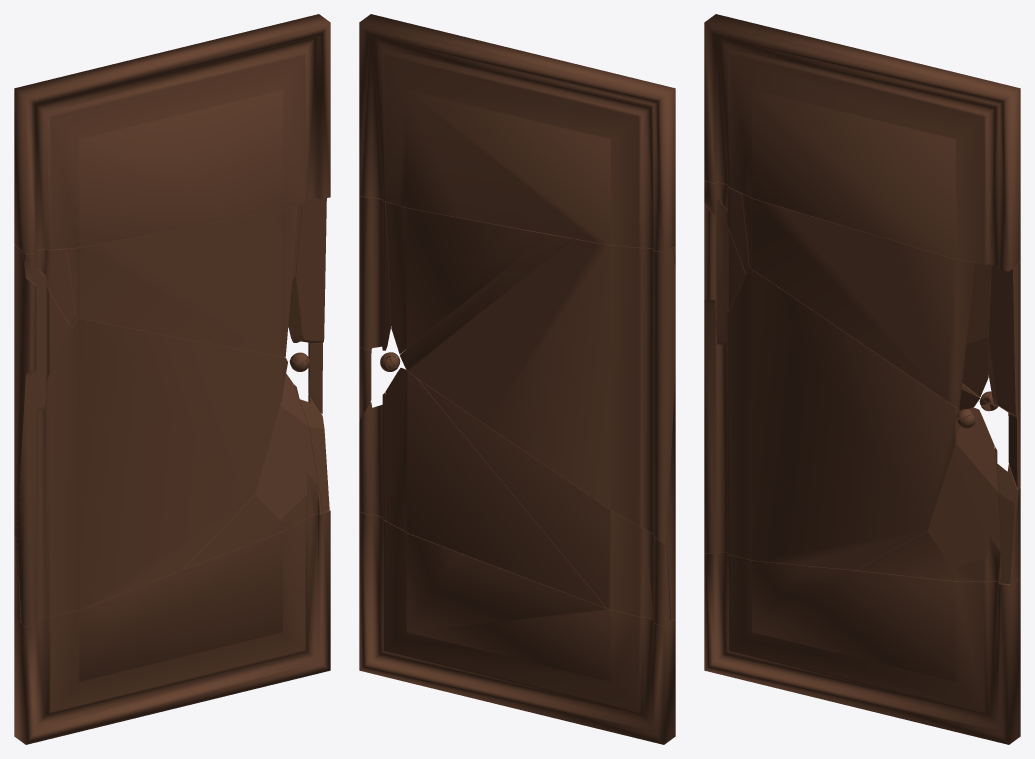
Rendered from FracturedDoor.fbx.
The picture shows the model from 3 angles, left to right: view 1: azimuth 30°, elevation 25°; view 2: azimuth 150°, elevation 25°; view 3: azimuth 330°, elevation 25°; orthographic projection.
Visible parts, largest first — view 1: Cube_cell.025, Cube_cell.007, Cube_cell.020, Cube_cell.001, Cube_cell.012, Cube_cell.027, Cube_cell.028, Cube_cell.002, Cube_cell.009, Cube_cell.018; view 2: Cube_cell.007, Cube_cell.027, Cube_cell.020, Cube_cell.012, Cube_cell.026, Cube_cell.024, Cube_cell.028, Cube_cell.002, Cube_cell.009, Cube_cell.025, Cube_cell.018; view 3: Cube_cell.007, Cube_cell.025, Cube_cell.020, Cube_cell.001, Cube_cell.012, Cube_cell.028, Cube_cell.027, Cube_cell.024, Cube_cell.009, Cube_cell.002, Cube_cell.018.
Boxes of the visible parts, x1,y1,x2,y2 form: Cube_cell.025: [17, 318, 287, 626]; Cube_cell.007: [14, 14, 330, 254]; Cube_cell.020: [14, 510, 330, 744]; Cube_cell.001: [66, 205, 297, 357]; Cube_cell.012: [182, 373, 322, 569]; Cube_cell.027: [14, 244, 71, 537]; Cube_cell.028: [288, 198, 326, 343]; Cube_cell.002: [23, 248, 77, 325]; Cube_cell.009: [294, 384, 329, 512]; Cube_cell.018: [308, 342, 322, 413]; Cube_cell.007: [359, 14, 675, 252]; Cube_cell.027: [408, 239, 675, 543]; Cube_cell.020: [359, 511, 675, 744]; Cube_cell.012: [385, 368, 606, 608]; Cube_cell.026: [418, 379, 670, 626]; Cube_cell.024: [385, 201, 549, 353]; Cube_cell.028: [359, 196, 390, 350]; Cube_cell.002: [400, 234, 675, 370]; Cube_cell.009: [359, 393, 384, 520]; Cube_cell.025: [666, 370, 675, 620]; Cube_cell.018: [359, 347, 371, 419]; Cube_cell.007: [704, 14, 1020, 271]; Cube_cell.025: [704, 267, 960, 570]; Cube_cell.020: [704, 552, 1020, 744]; Cube_cell.001: [742, 194, 975, 408]; Cube_cell.012: [855, 407, 1002, 583]; Cube_cell.028: [989, 262, 1020, 416]; Cube_cell.027: [704, 197, 960, 410]; Cube_cell.024: [962, 263, 991, 396]; Cube_cell.009: [995, 447, 1020, 583]; Cube_cell.002: [704, 180, 979, 410]; Cube_cell.018: [1008, 413, 1020, 488].
Bounding box in the file's own units: 200 × 406 × 38.24.
Materials: 1 (1 with a texture image).
